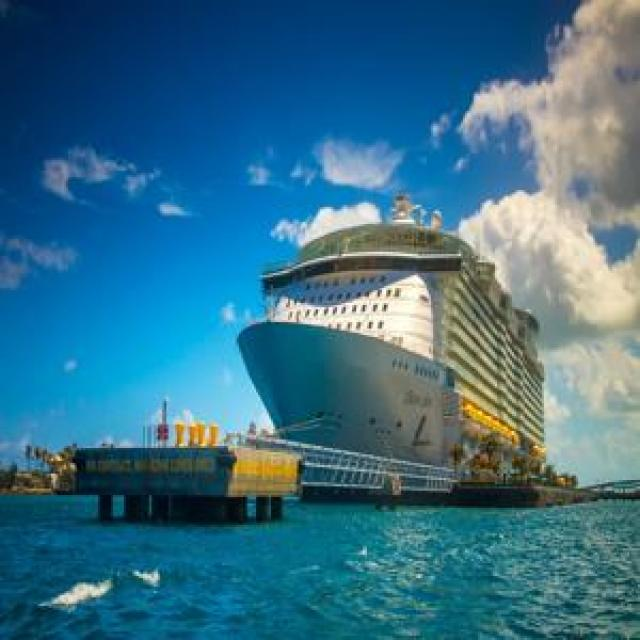passenger ship: (239, 210, 553, 476)
